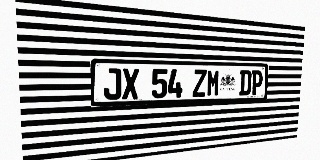4: (168, 69, 183, 98)
5: (152, 69, 168, 98)
D: (239, 70, 252, 96)
J: (103, 68, 121, 100)
M: (206, 70, 220, 97)
P: (251, 70, 263, 95)
X: (122, 68, 139, 99)
Z: (192, 69, 207, 97)
